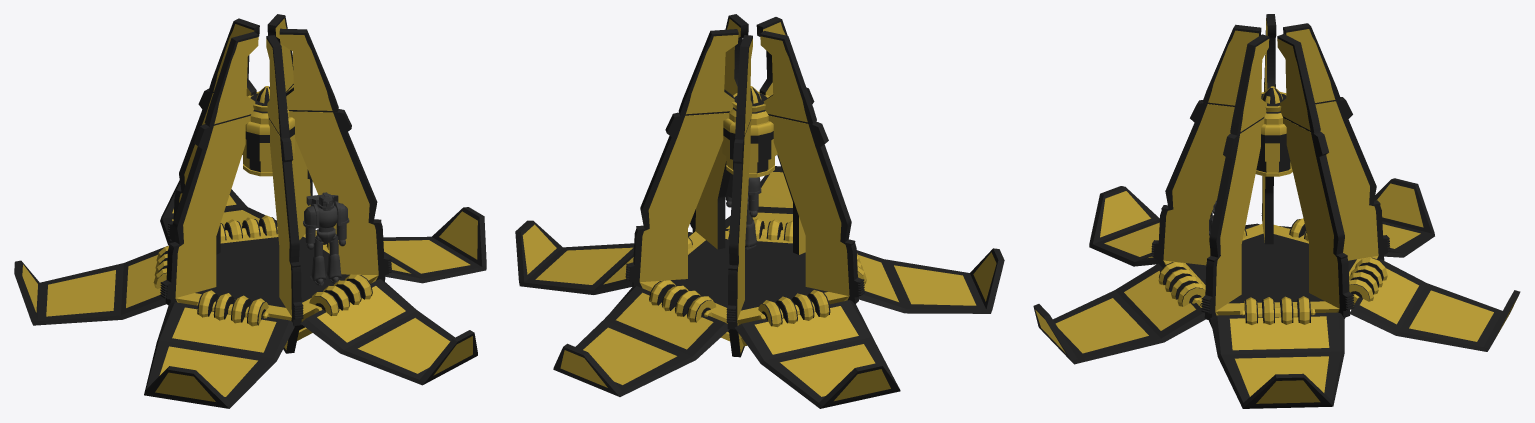
File: Pod and Marine.fbx
The picture shows the model from 3 angles, left to right: view 1: azimuth 30°, elevation 25°; view 2: azimuth 150°, elevation 25°; view 3: azimuth 270°, elevation 25°; orthographic projection.
Visible parts, largest first — view 1: prime_Door (×5), prime_Frame4, prime_Frame1, Base, prime_Frame, pCylinder8, prime_Frame3, prime_Frame2, pCylinder1, pCylinder11, pCylinder12, pCylinder14 (+2 smaller); view 2: prime_Door (×5), prime_Frame2, prime_Frame4, Base, prime_Frame3, prime_Frame1, pCylinder1, pCylinder10, pCylinder14, prime_Frame, pCylinder8, pCylinder12 (+1 smaller); view 3: prime_Door (×5), prime_Frame, prime_Frame2, prime_Frame1, prime_Frame3, Base, pCylinder1, pCylinder13, prime_Frame4, pCylinder12, pCylinder14, pCylinder3.
Part boxes in pixels (x1,y1,x2,y2): prime_Door (×5): [14, 180, 486, 408]; prime_Frame4: [160, 32, 258, 305]; prime_Frame1: [279, 28, 391, 282]; Base: [175, 230, 377, 340]; prime_Frame: [266, 35, 303, 353]; pCylinder8: [303, 192, 349, 285]; prime_Frame3: [167, 18, 259, 254]; prime_Frame2: [267, 14, 312, 239]; pCylinder1: [242, 86, 294, 161]; pCylinder11: [197, 290, 269, 326]; pCylinder12: [309, 274, 372, 315]; pCylinder14: [220, 215, 277, 241]; prime_Door (×5): [515, 166, 1004, 408]; prime_Frame2: [625, 29, 738, 291]; prime_Frame4: [760, 31, 864, 303]; Base: [640, 231, 848, 346]; prime_Frame3: [726, 35, 752, 357]; prime_Frame1: [690, 14, 748, 249]; pCylinder1: [722, 86, 777, 162]; pCylinder10: [758, 290, 830, 327]; pCylinder14: [649, 280, 716, 322]; prime_Frame: [756, 17, 814, 254]; pCylinder8: [725, 173, 761, 249]; pCylinder12: [728, 218, 792, 241]; prime_Door (×5): [1033, 178, 1520, 408]; prime_Frame: [1151, 24, 1261, 267]; prime_Frame2: [1277, 34, 1354, 318]; prime_Frame1: [1201, 34, 1269, 327]; prime_Frame3: [1283, 23, 1390, 260]; Base: [1163, 224, 1377, 315]; pCylinder1: [1258, 86, 1289, 161]; pCylinder13: [1240, 296, 1315, 324]; prime_Frame4: [1261, 14, 1276, 244]; pCylinder12: [1158, 262, 1205, 307]; pCylinder14: [1349, 257, 1387, 309]; pCylinder3: [1255, 159, 1292, 176].
Bounding box in the file's own units: 620 × 413 × 638.
